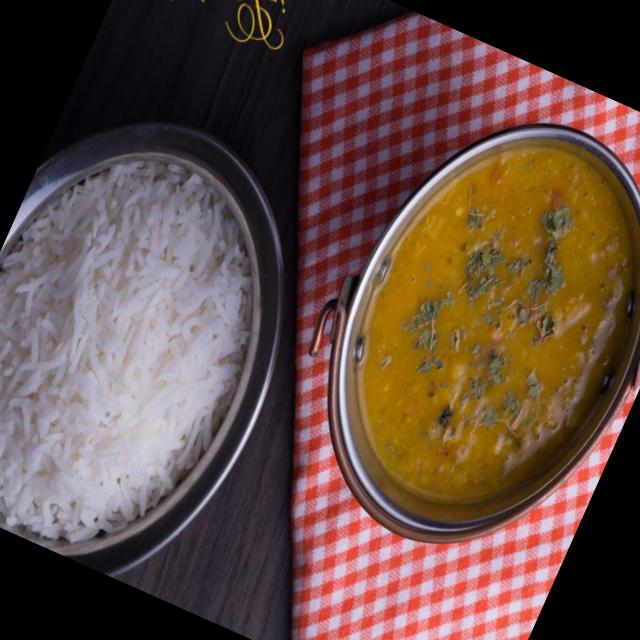dal: (305, 99, 640, 549)
rice: (0, 103, 321, 590)
